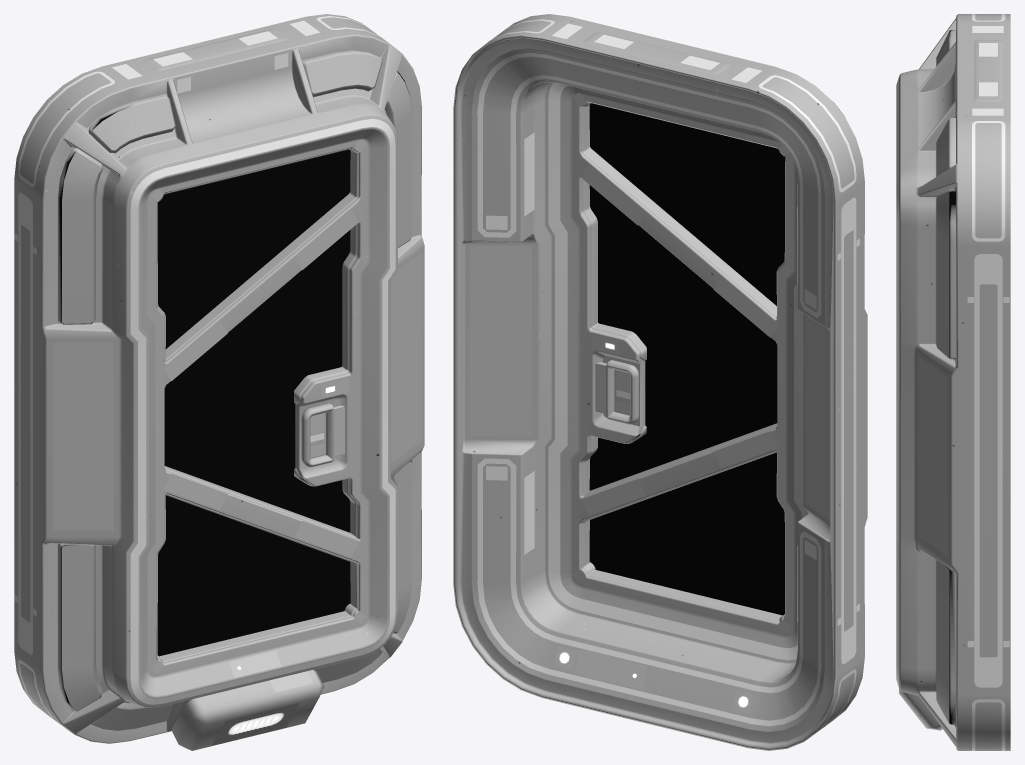
Rendered from SM_Door_1_Merged.fbx.
3 renders of one model, left to right at view 1: azimuth 30°, elevation 25°; view 2: azimuth 150°, elevation 25°; view 3: azimuth 270°, elevation 25°, orthographic. The views are drawn at different scales.
Parts seen in each view (by area): view 1: SM_Door_1_Merged_LOD0; view 2: SM_Door_1_Merged_LOD0; view 3: SM_Door_1_Merged_LOD0.
Part boxes in pixels (left/top/right/bottom): SM_Door_1_Merged_LOD0: left=14, top=14, right=424, bottom=750; SM_Door_1_Merged_LOD0: left=453, top=14, right=867, bottom=750; SM_Door_1_Merged_LOD0: left=896, top=14, right=1010, bottom=750.
Bounding box in the file's own units: 155 × 42.37 × 259.
